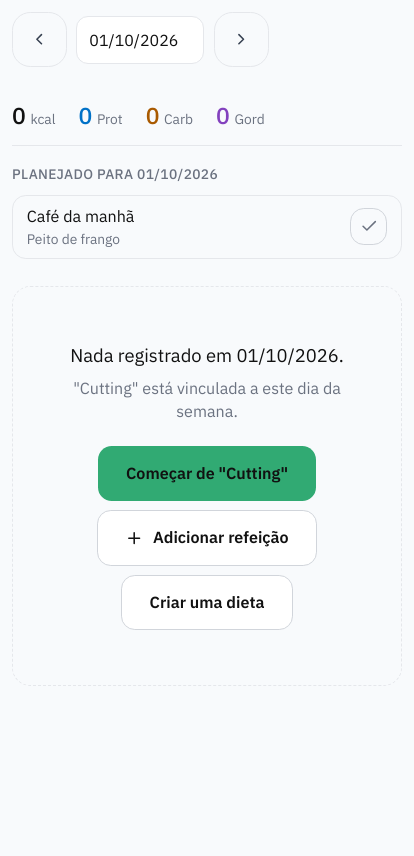
planned meals waiting to be checked › 'Fechar refeição', ao lado do check, undoes an open, back to the compact planned row
What coordinates should you click on to do the following:
click the button with aria-label "Abrir Café da manhã"
I would click on:
 (81, 215)
Its box is [27,205,337,248].
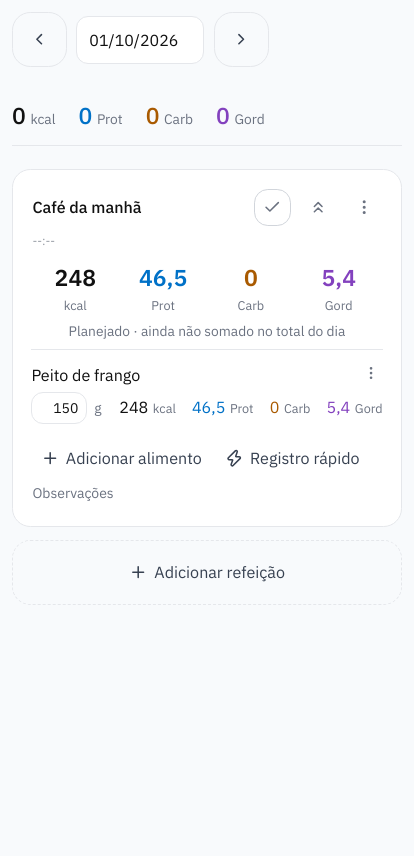
Expected: the field showing "Café da manhã" is shown, [25,192,251,222]
What coordinates should you click on to do the following:
click the button named "Fechar refeição"
I would click on:
 (318, 207)
Its box is [300,189,337,226].
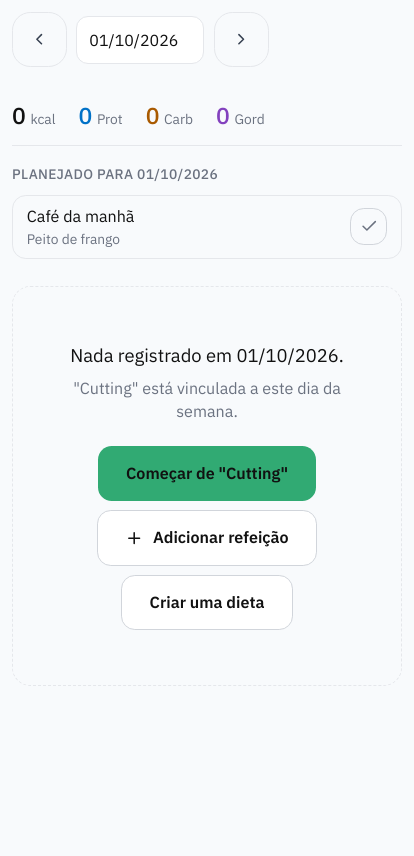
Expected: the heading "Planejado para 01/10/2026" is shown, [12,165,218,183]
